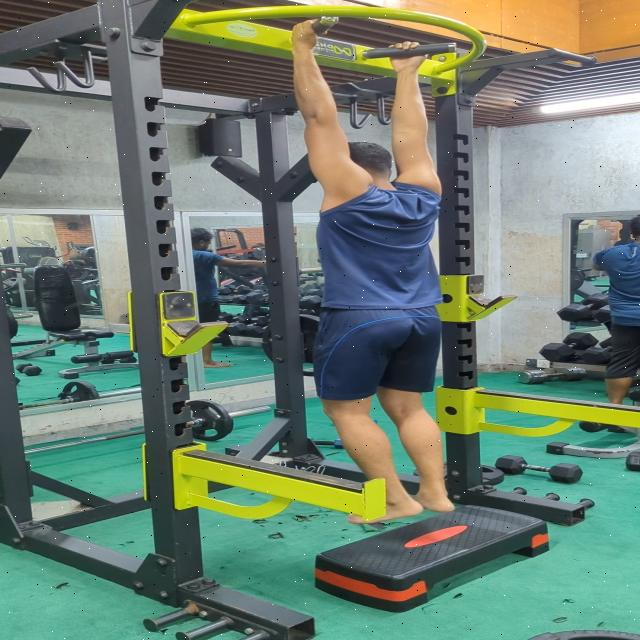Normal_PullUps: (289, 13, 467, 528)
